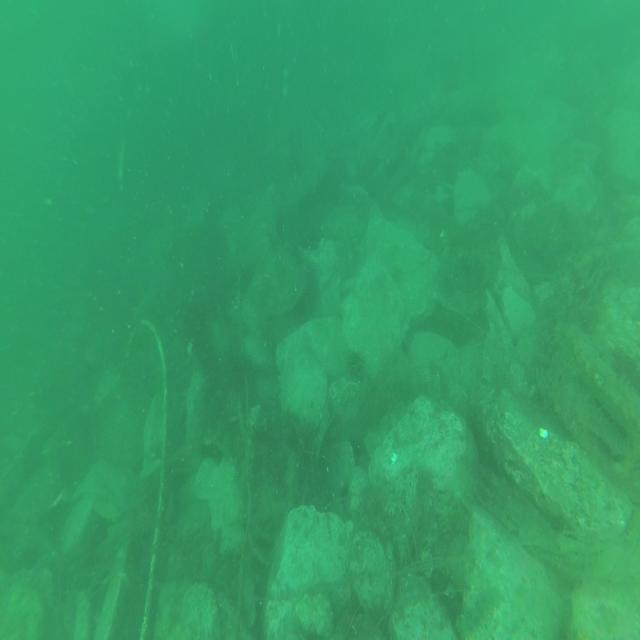echinus: (344, 344, 365, 378)
holothurian: (466, 462, 558, 553), (568, 335, 640, 445)
